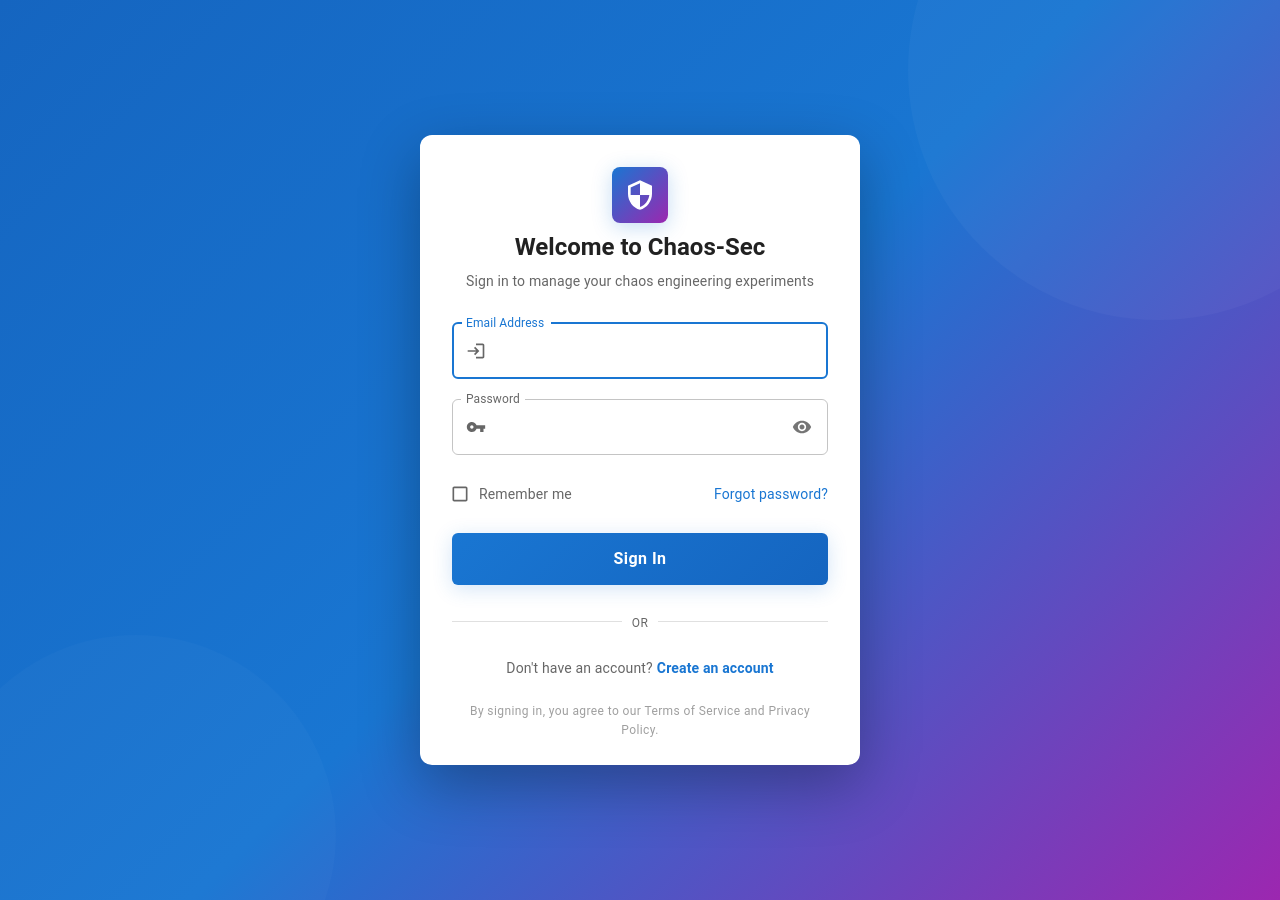
Test: LoginPage – form validation › shows "Email is required" when email is empty and form is submitted
Click the button "Sign In". click: coordinates (640, 559)
box: [452,533,828,585]
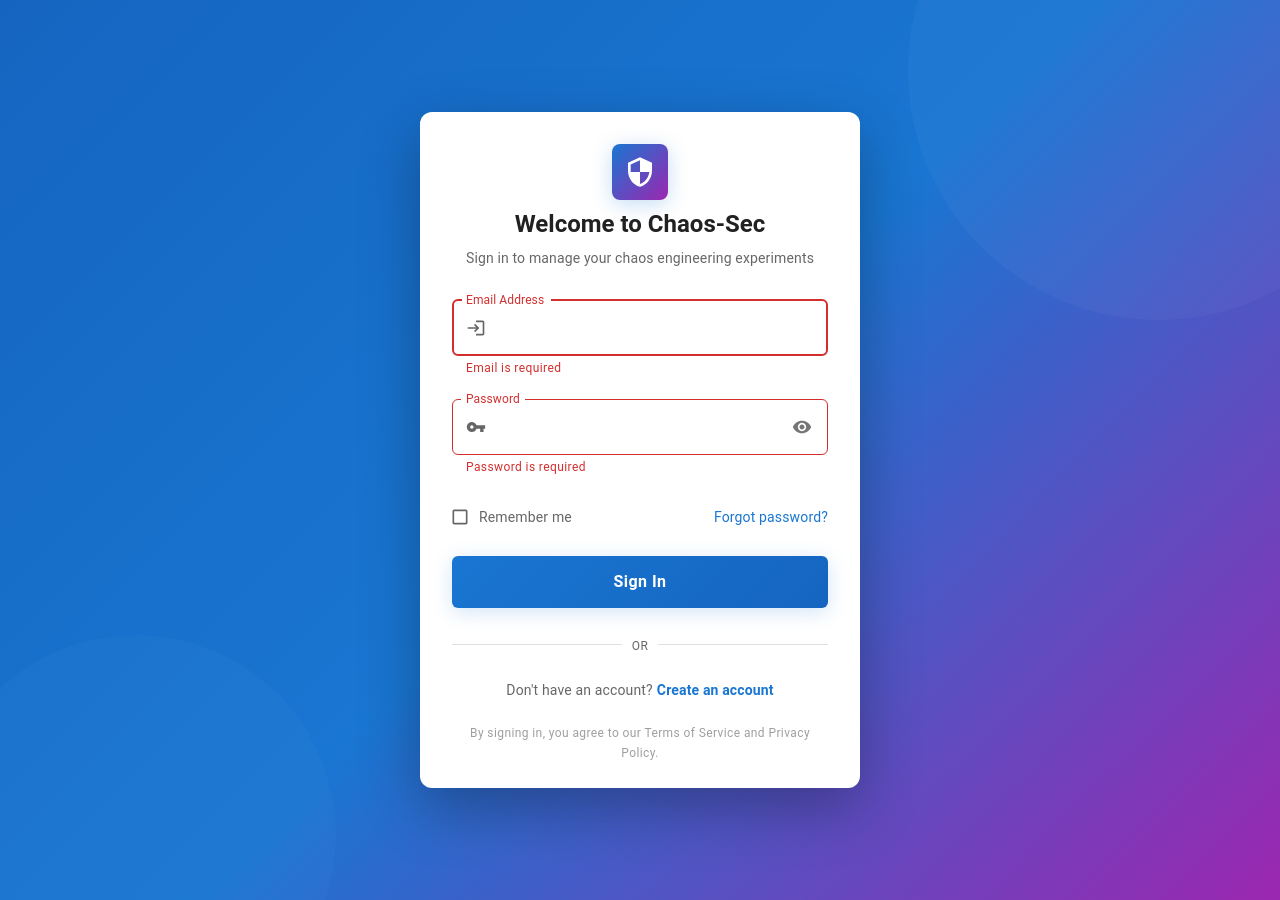
Check: the text "Email is required" is shown, box [466,361,561,375]
